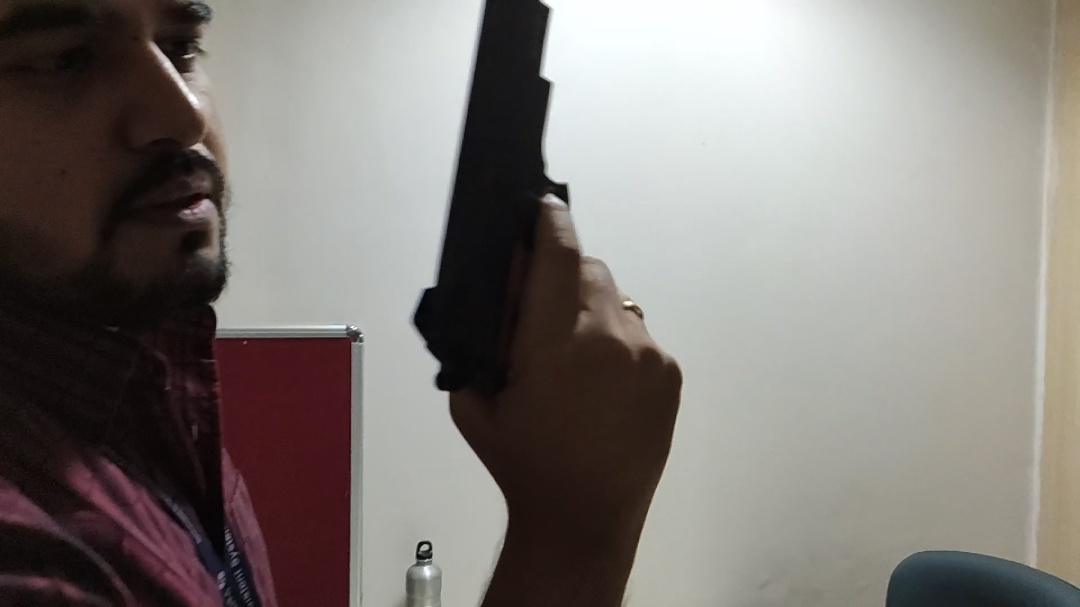gun: (396, 1, 614, 404)
